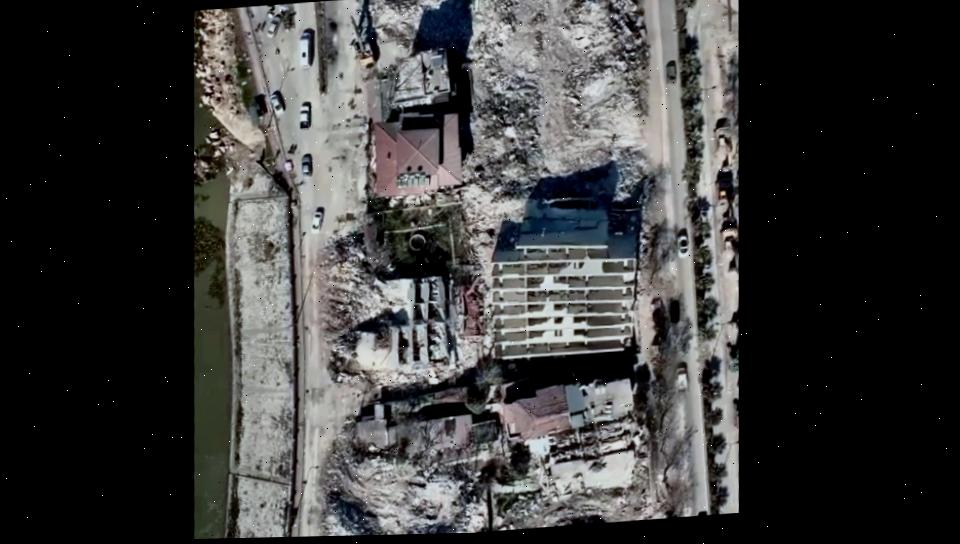kapali: (299, 194, 372, 395), (298, 393, 372, 537)
